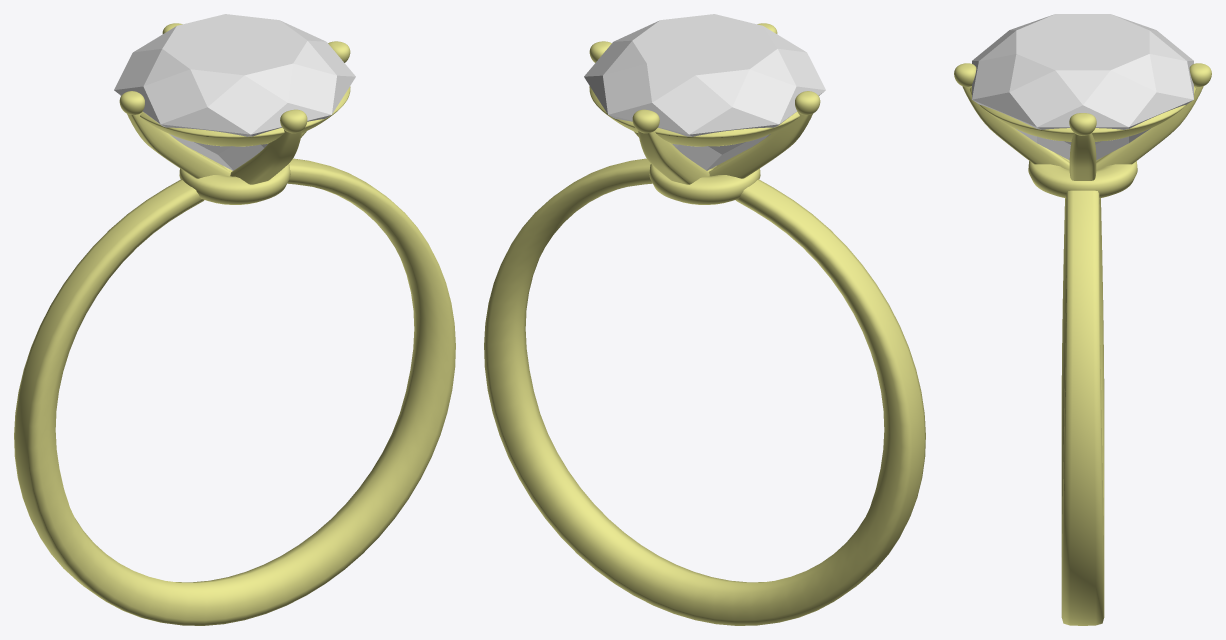
The model's file is ring.fbx.
3 renders of one model, left to right at view 1: azimuth 30°, elevation 25°; view 2: azimuth 150°, elevation 25°; view 3: azimuth 270°, elevation 25°, orthographic.
Parts seen in each view (by area): view 1: Circle.001, Gem, Sphere, Cylinder, Circle; view 2: Circle.001, Gem, Sphere, Cylinder, Circle; view 3: Gem, Circle.001, Sphere, Cylinder, Circle.
Boxes of the visible parts, <box> form: Circle.001: <box>14,158,455,625</box>; Gem: <box>114,14,355,170</box>; Sphere: <box>119,23,350,184</box>; Cylinder: <box>179,164,290,204</box>; Circle: <box>140,86,350,146</box>; Circle.001: <box>484,158,925,625</box>; Gem: <box>584,14,825,170</box>; Sphere: <box>589,23,820,184</box>; Cylinder: <box>649,164,760,204</box>; Circle: <box>589,86,799,146</box>; Gem: <box>972,14,1193,160</box>; Circle.001: <box>1061,190,1104,625</box>; Sphere: <box>954,63,1211,180</box>; Cylinder: <box>1028,161,1137,198</box>; Circle: <box>969,87,1196,141</box>.
Bounding box in the file's own units: 40.43 × 51.53 × 21.45.
